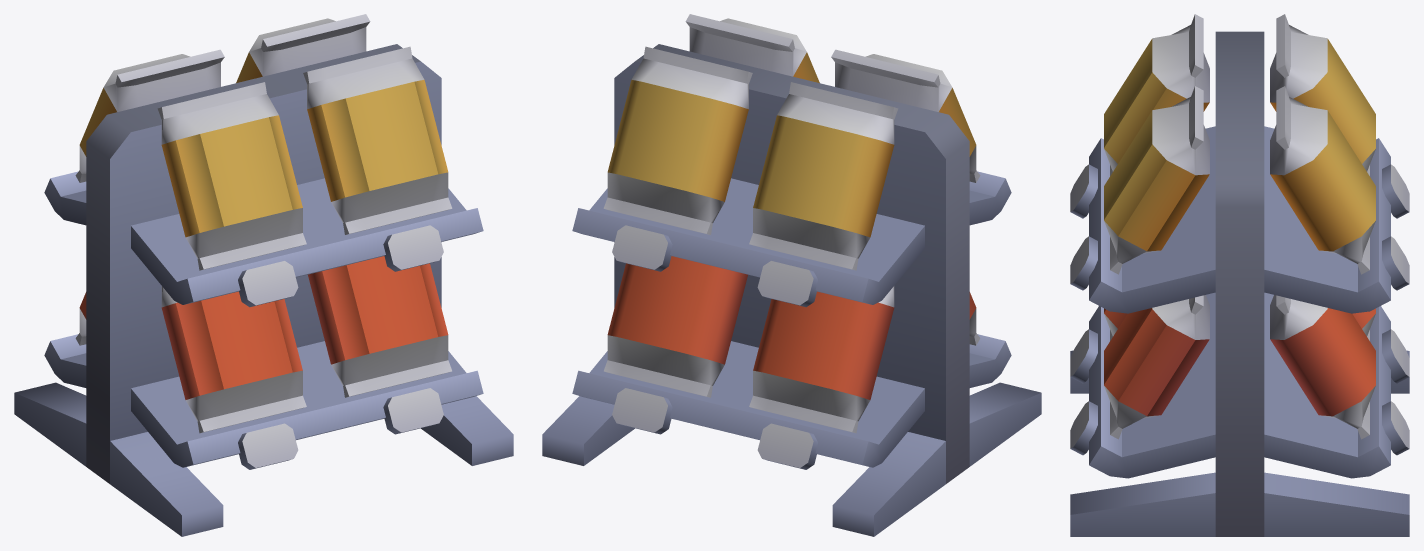
File: shelf_bags.fbx
3 renders of one model, left to right at view 1: azimuth 30°, elevation 25°; view 2: azimuth 150°, elevation 25°; view 3: azimuth 270°, elevation 25°, orthographic.
Parts seen in each view (by area): view 1: shelf-bags; view 2: shelf-bags; view 3: shelf-bags.
Part boxes in pixels (bbox=[...]): shelf-bags: bbox=[14, 14, 513, 536]; shelf-bags: bbox=[542, 14, 1041, 536]; shelf-bags: bbox=[1070, 14, 1409, 536].
Size of the model in its own units: 0.8964 by 0.9674 by 0.7843.
